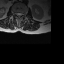CCS_normal: (18, 10, 20, 20)
LFS_stenosis: (22, 11, 24, 17)
LLS_normal: (20, 10, 22, 17)
RFS_normal: (14, 10, 16, 16)
RLS_normal: (16, 10, 18, 17)
